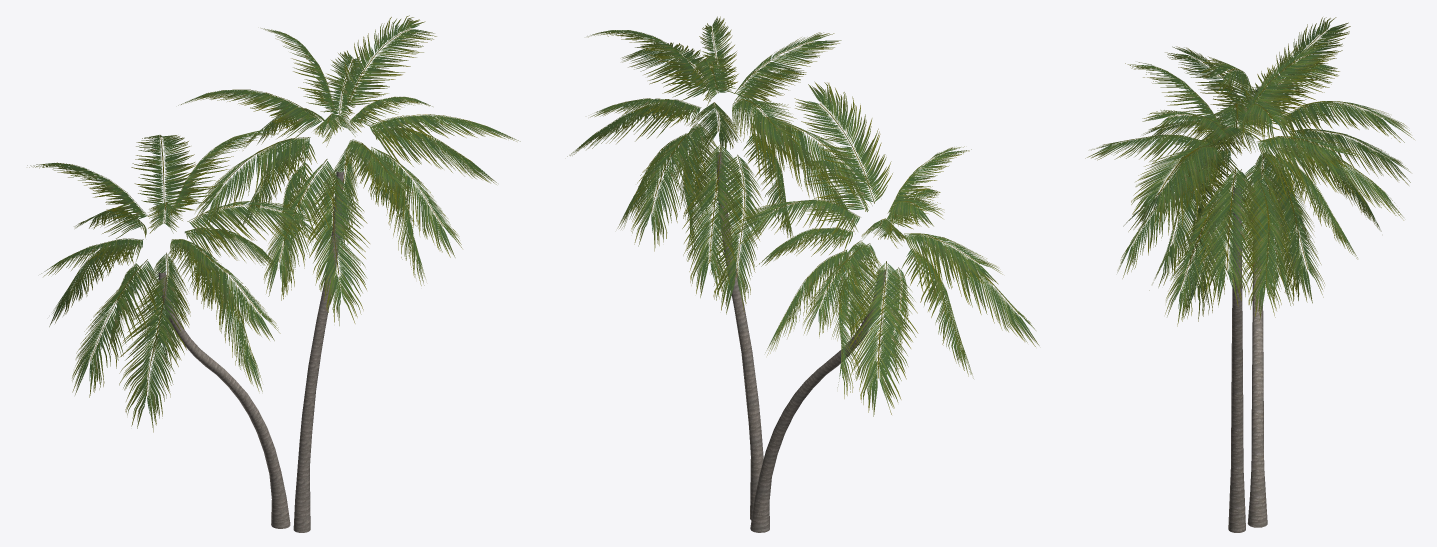
Rendered from bay-coconut-palm.lod0.glb.
3 renders of one model, left to right at view 1: azimuth 30°, elevation 25°; view 2: azimuth 150°, elevation 25°; view 3: azimuth 270°, elevation 25°, orthographic. The views are drawn at different scales.
Visible parts, largest first — view 1: Tree_2_Tree_2Mat_0, Tree_0_Tree_0Mat_0; view 2: Tree_2_Tree_2Mat_0, Tree_0_Tree_0Mat_0; view 3: Tree_2_Tree_2Mat_0, Tree_0_Tree_0Mat_0.
Boxes of the visible parts, box(x1,y1,x2,y2) form: Tree_2_Tree_2Mat_0: box(27, 15, 520, 432); Tree_0_Tree_0Mat_0: box(158, 170, 343, 532); Tree_2_Tree_2Mat_0: box(567, 16, 1039, 416); Tree_0_Tree_0Mat_0: box(716, 151, 885, 532); Tree_2_Tree_2Mat_0: box(1085, 17, 1414, 326); Tree_0_Tree_0Mat_0: box(1228, 172, 1267, 532).
Size of the model in its own units: 7.51 by 7.5 by 4.8.
2 materials, 2 textured.
